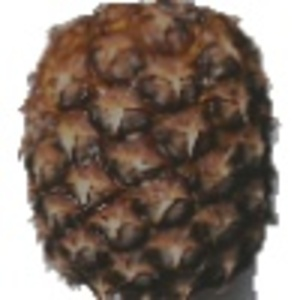abacaxi: (16, 3, 280, 297)
